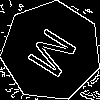M: (26, 26, 87, 86)
